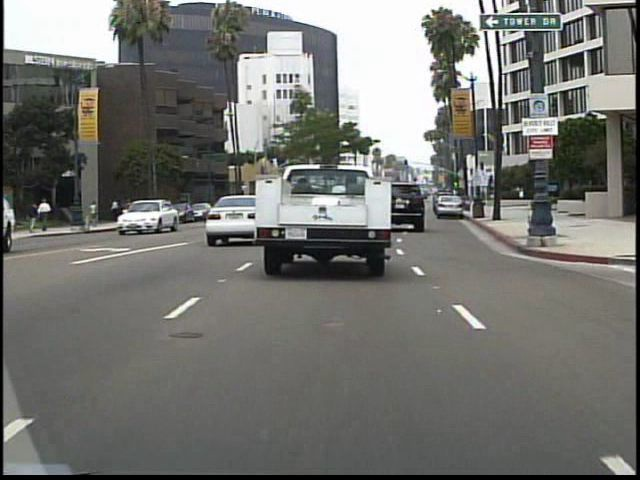person: (40, 195, 56, 233), (533, 184, 547, 216), (28, 199, 40, 234), (92, 199, 100, 225)
